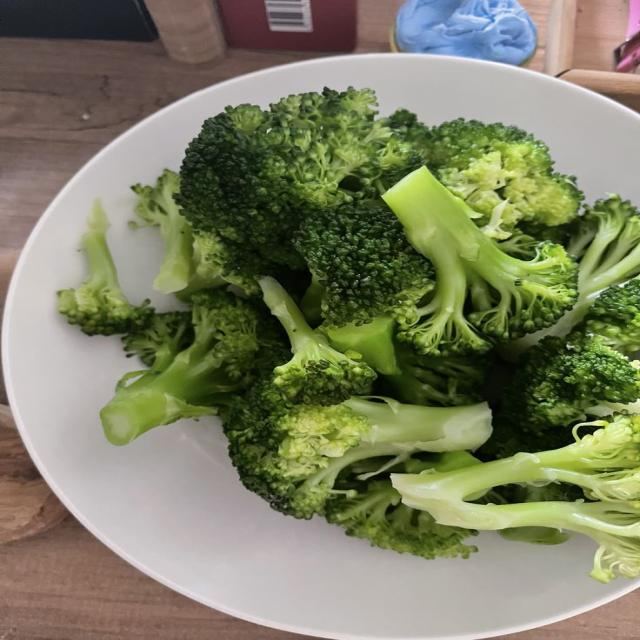broccoli: (179, 88, 419, 268), (391, 415, 639, 582), (224, 375, 491, 518), (383, 167, 577, 355), (100, 290, 265, 444), (390, 111, 582, 238), (505, 196, 639, 357), (482, 333, 639, 457), (133, 170, 273, 300), (295, 201, 433, 326), (325, 460, 477, 559), (259, 278, 376, 405), (58, 200, 153, 335), (326, 479, 476, 559), (132, 169, 193, 293), (176, 232, 273, 300), (385, 346, 489, 406), (320, 315, 399, 374), (579, 277, 639, 354), (122, 312, 193, 371)
